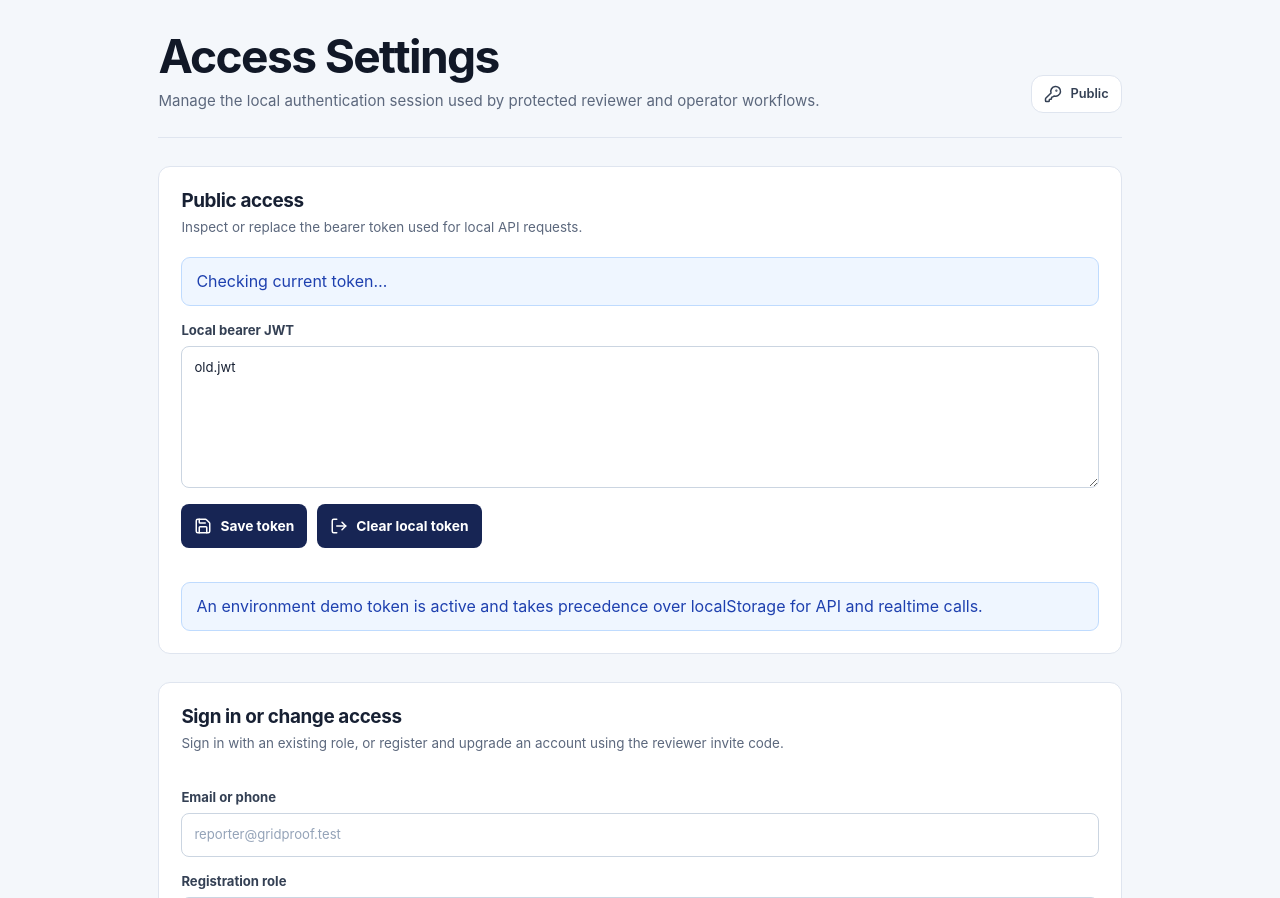
Test: AuthSettings › clears local bearer tokens
Click the button "Clear local token". click: (399, 526)
box: x1=317 y1=504 x2=482 y2=548
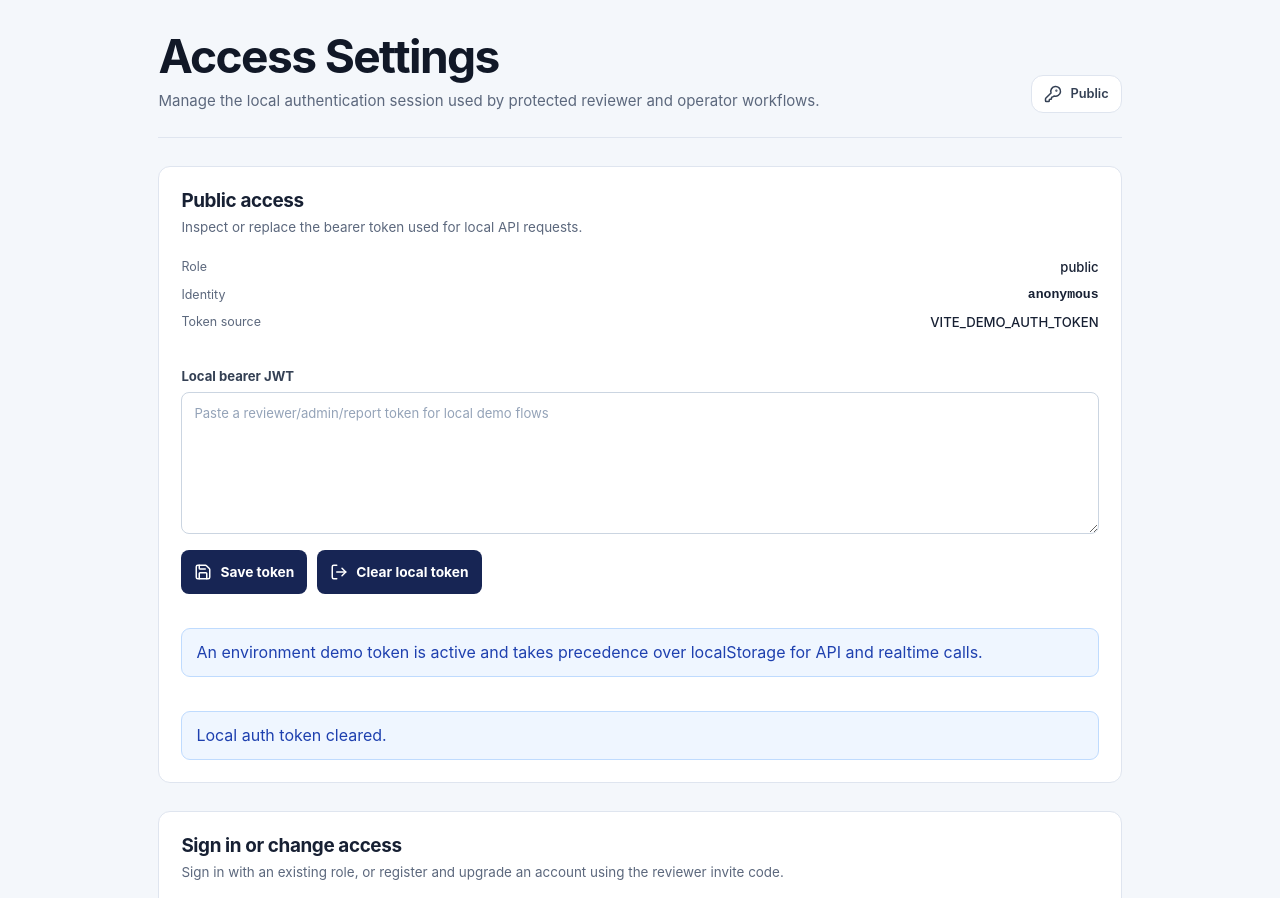
Now the text "Local auth token cleared." is shown, box x1=181 y1=711 x2=1099 y2=760
